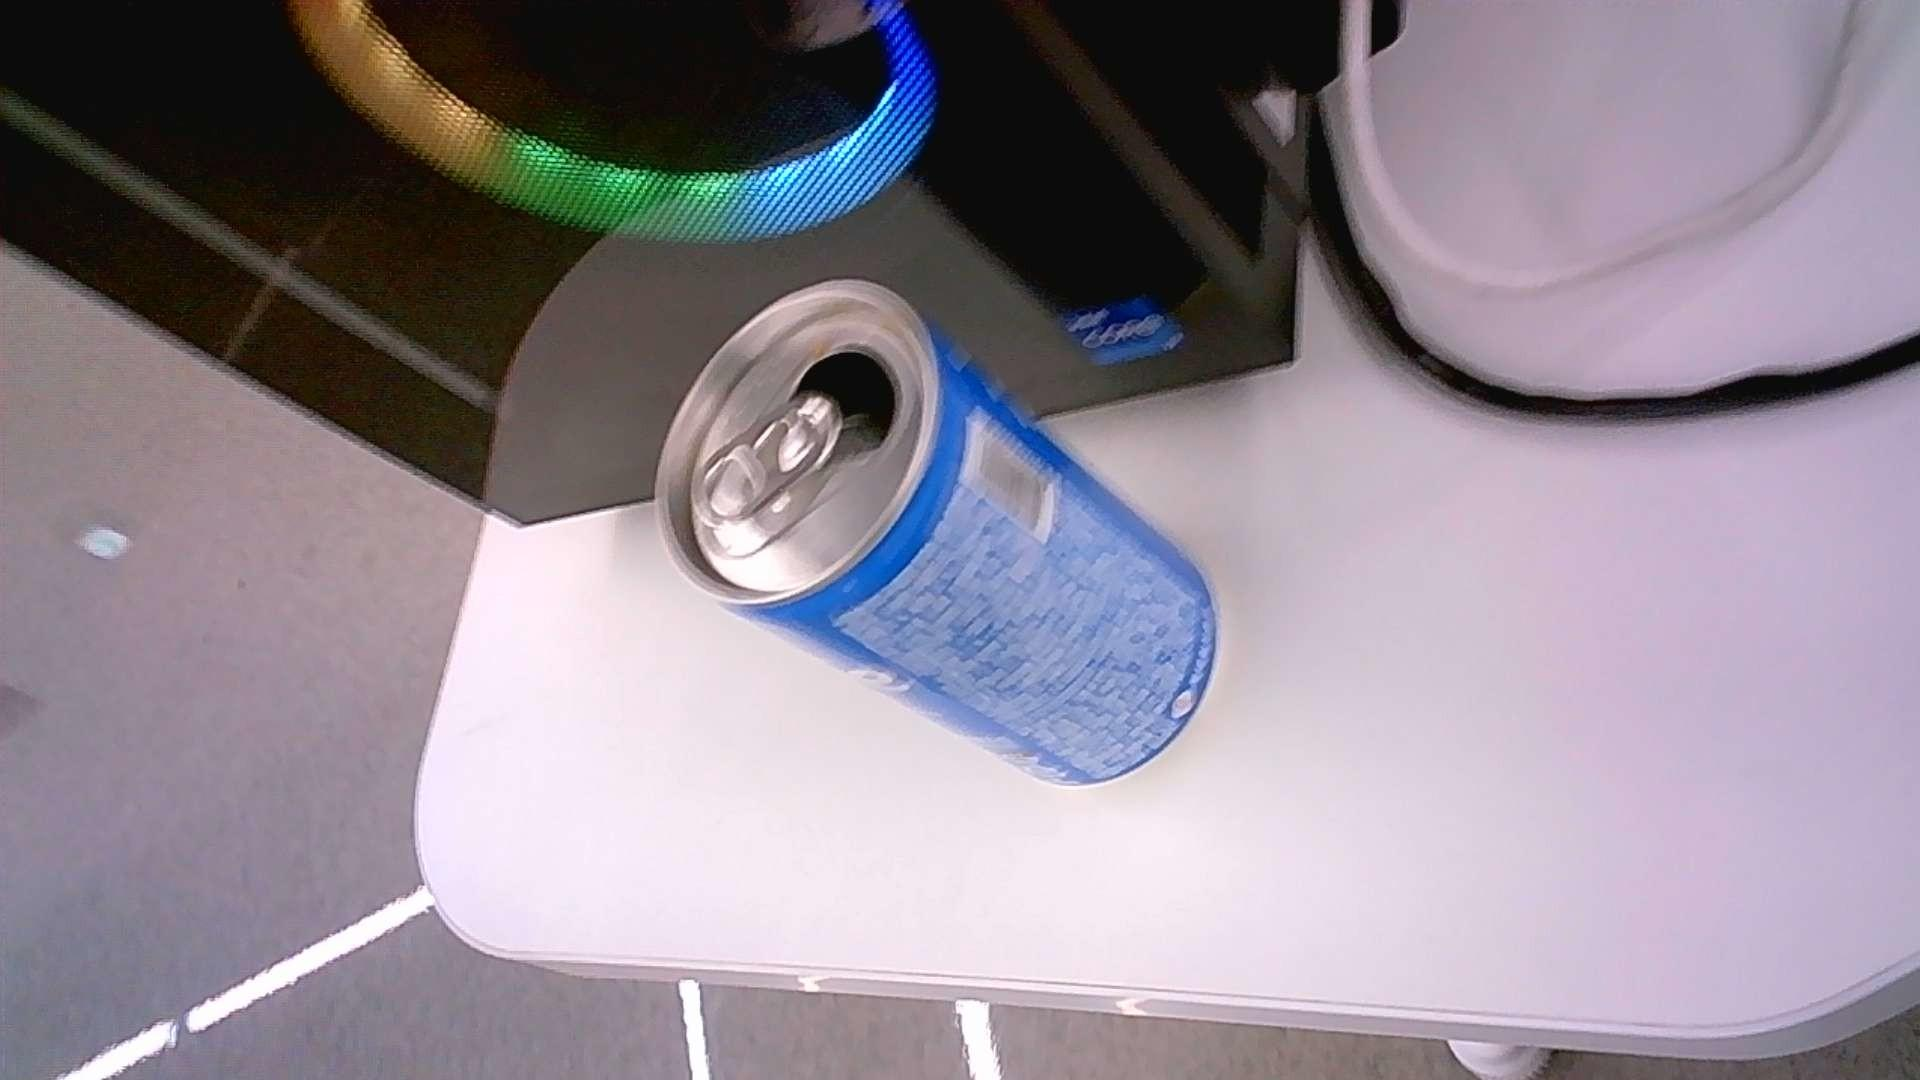letsbe: (655, 278, 1221, 793)
